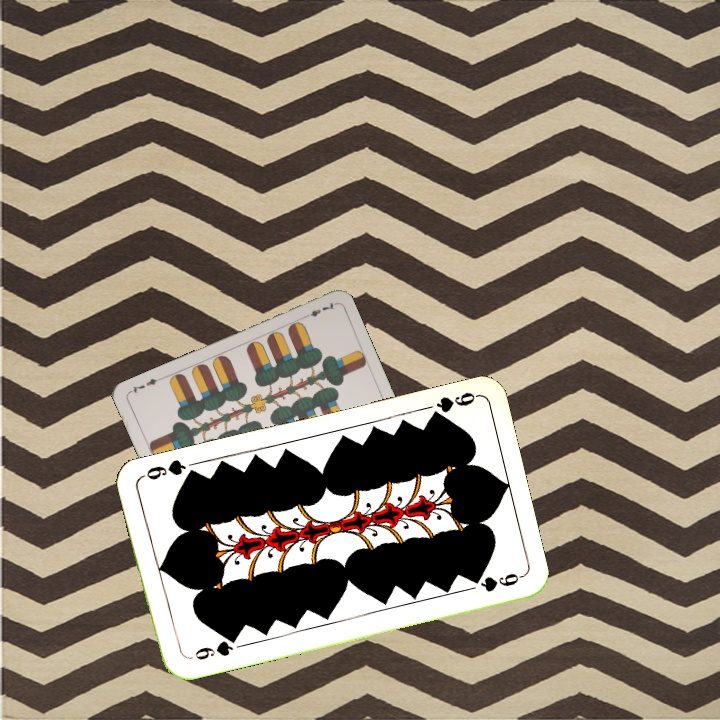E7: (299, 298, 338, 321)
G9: (425, 388, 480, 423), (190, 633, 240, 663)
